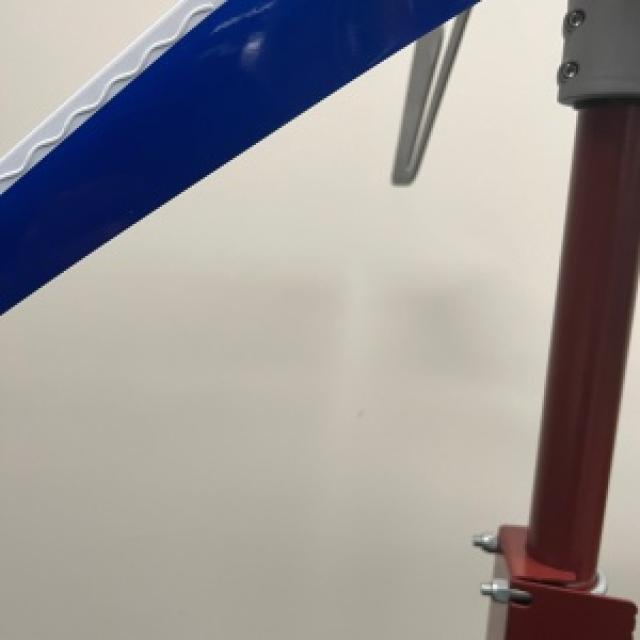healthy: (599, 292, 638, 599)
